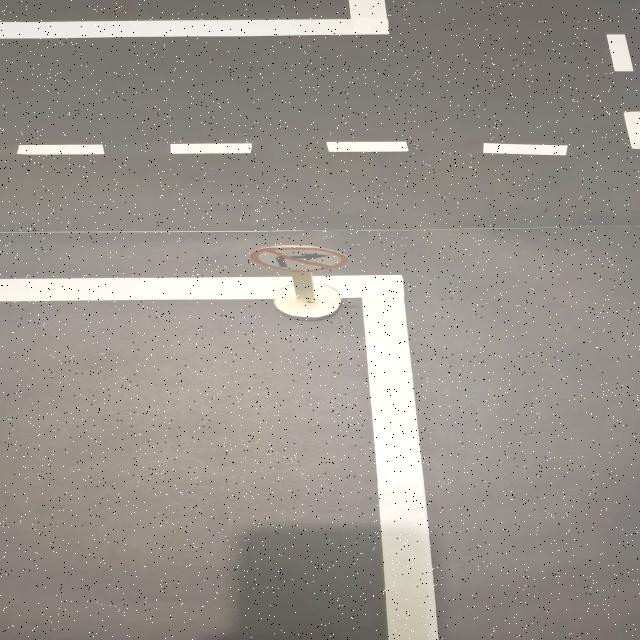Dilarang Belok Kanan: (247, 246, 351, 272)
